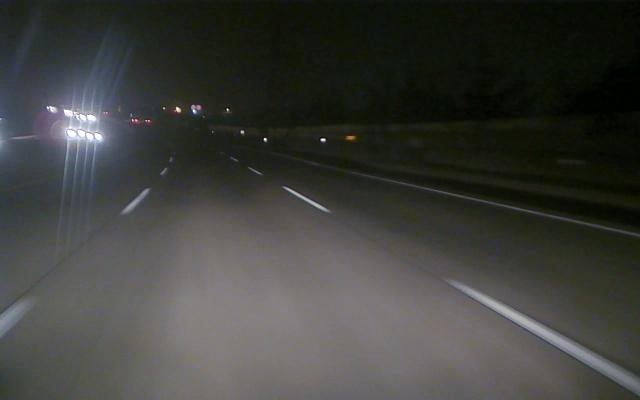lane: (282, 184, 639, 394), (1, 188, 151, 337), (373, 175, 640, 238)
